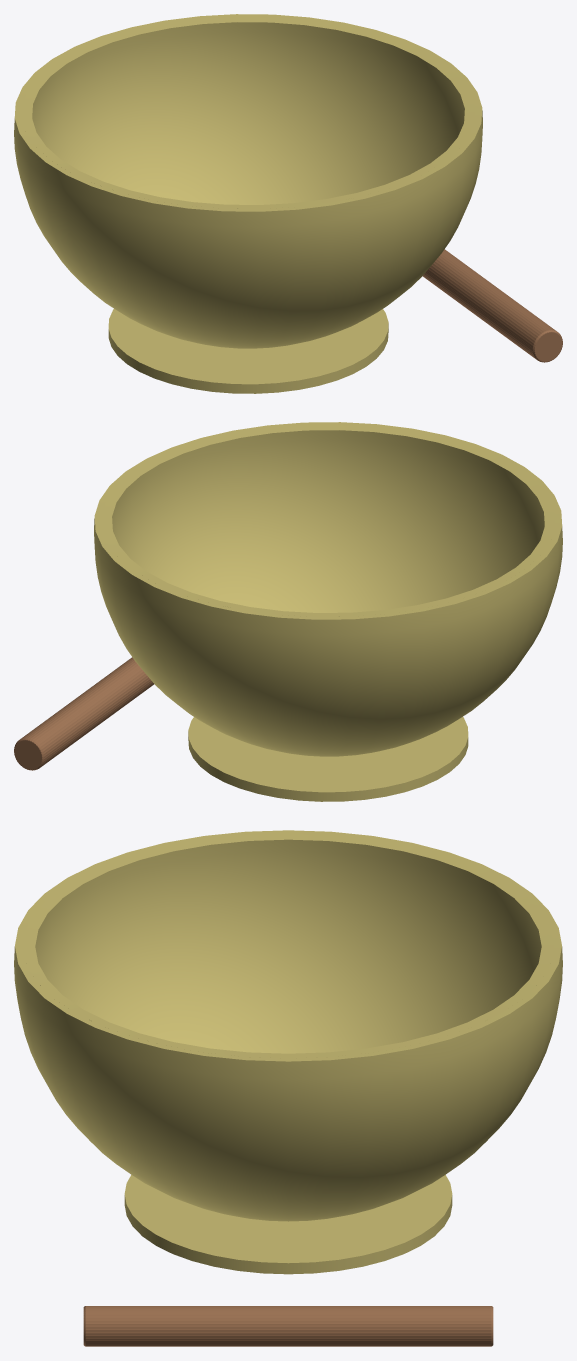
Rendered from bell.fbx.
The picture shows the model from 3 angles, top to bottom: view 1: azimuth 30°, elevation 25°; view 2: azimuth 150°, elevation 25°; view 3: azimuth 270°, elevation 25°; orthographic projection. The views are drawn at different scales.
Parts seen in each view (by area): view 1: bowl_final, stick; view 2: bowl_final, stick; view 3: bowl_final, stick.
Part boxes in pixels (<box>): bowl_final: <box>14,14,482,393</box>; stick: <box>423,249,562,362</box>; bowl_final: <box>94,422,562,801</box>; stick: <box>14,657,153,770</box>; bowl_final: <box>14,830,562,1274</box>; stick: <box>83,1306,493,1346</box>.
Bounding box in the file's own units: 14.2 × 7.48 × 13.4.
